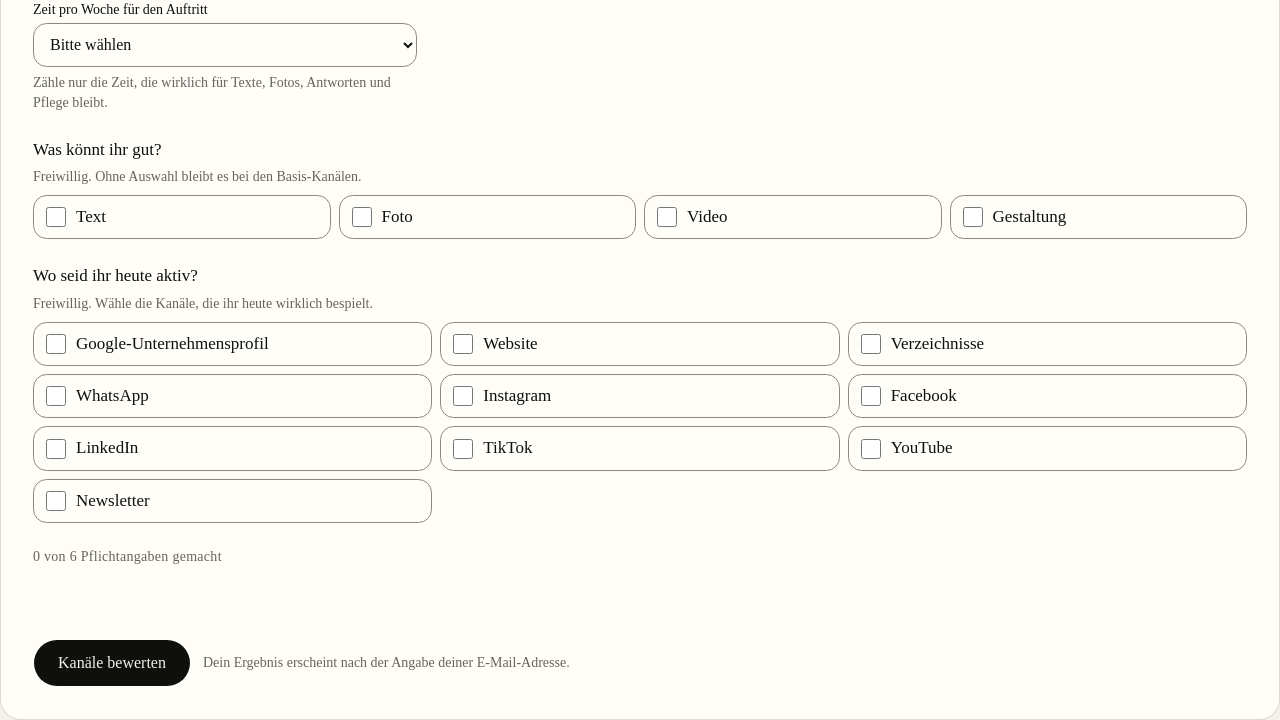
Test: Kanalstrategie: Formular › nennt bei Vereinen den Namen des Vereins
(page scrolled)
Click the button "Kanäle bewerten". click: point(112, 663)
box: x1=33 y1=639 x2=191 y2=687
(page scrolled)
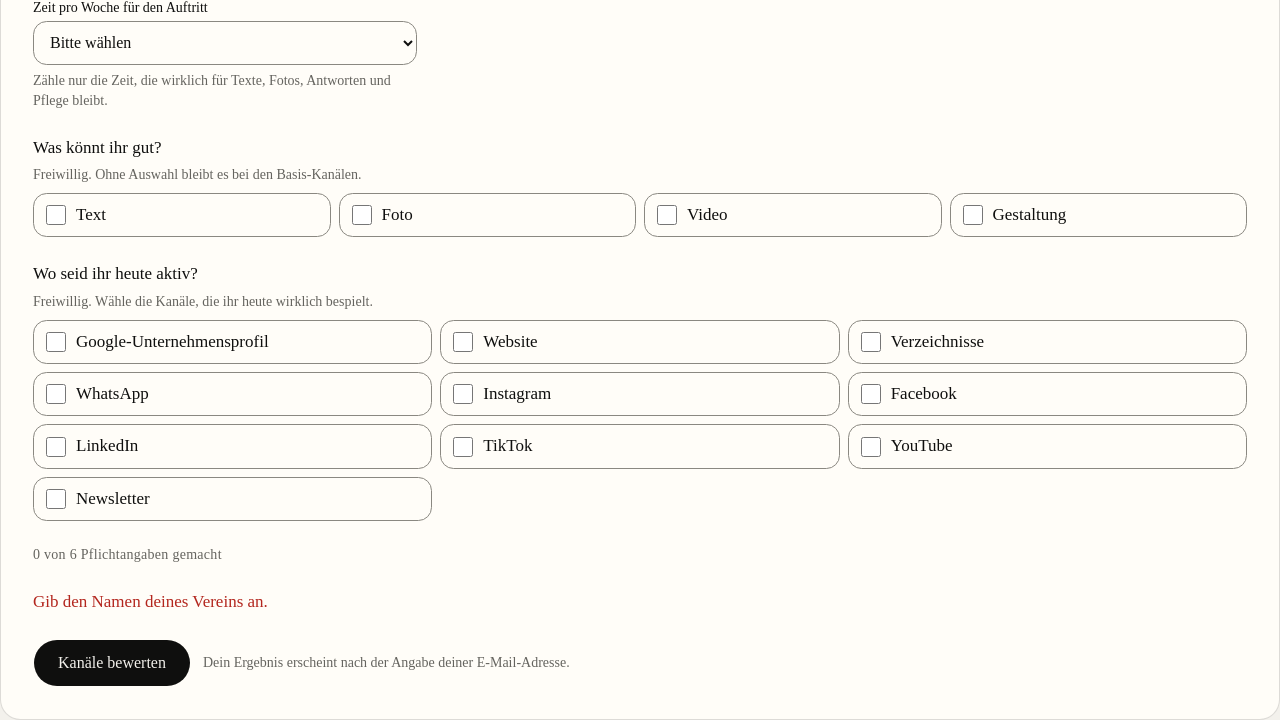
Expected: the message "Gib den Namen deines Vereins an." is shown, x1=33 y1=592 x2=268 y2=611
